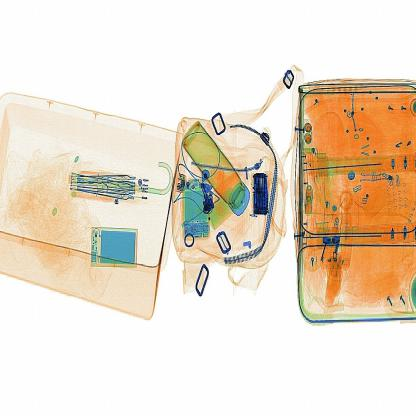scissors: (250, 168, 276, 228)
